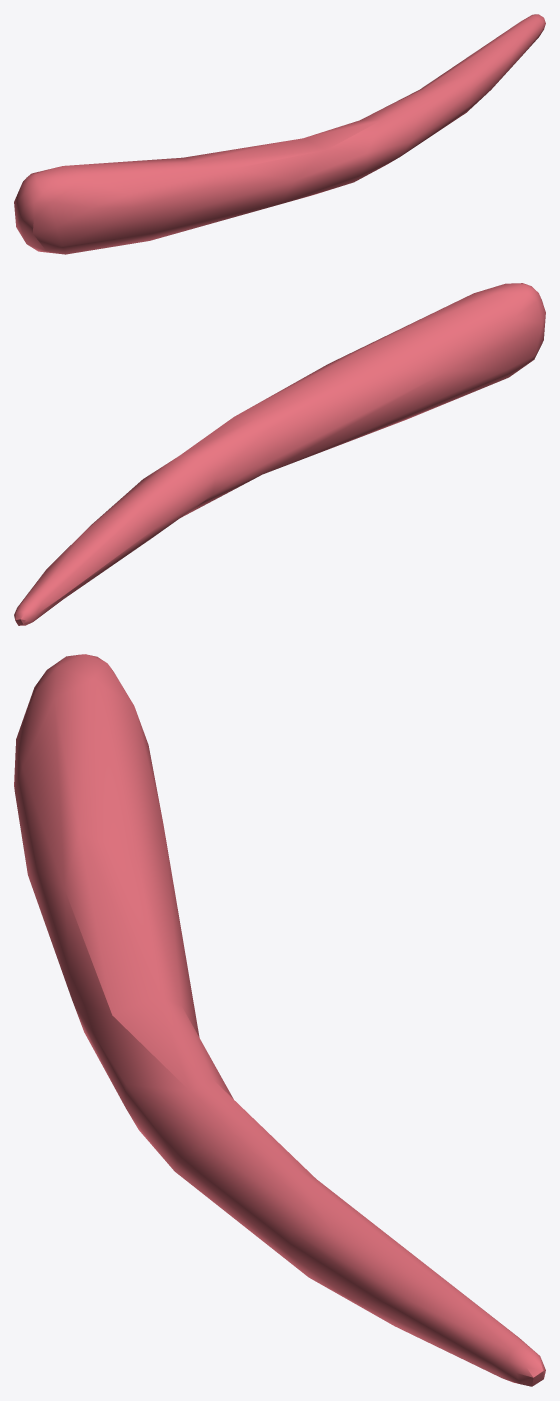
File: fma8666_fj5995.glb
3 views of the same model, one above another, from view 1: azimuth 30°, elevation 25°; view 2: azimuth 210°, elevation 25°; view 3: azimuth 270°, elevation 25° (orthographic). The views are drawn at different scales.
Parts seen in each view (by area): view 1: FMA8666_FJ5995; view 2: FMA8666_FJ5995; view 3: FMA8666_FJ5995.
Part boxes in pixels (<box>): FMA8666_FJ5995: <box>14,14,545,254</box>; FMA8666_FJ5995: <box>14,283,545,625</box>; FMA8666_FJ5995: <box>14,654,545,1386</box>.
Size of the model in its own units: 0.0379 by 0.00607 by 0.0148.
